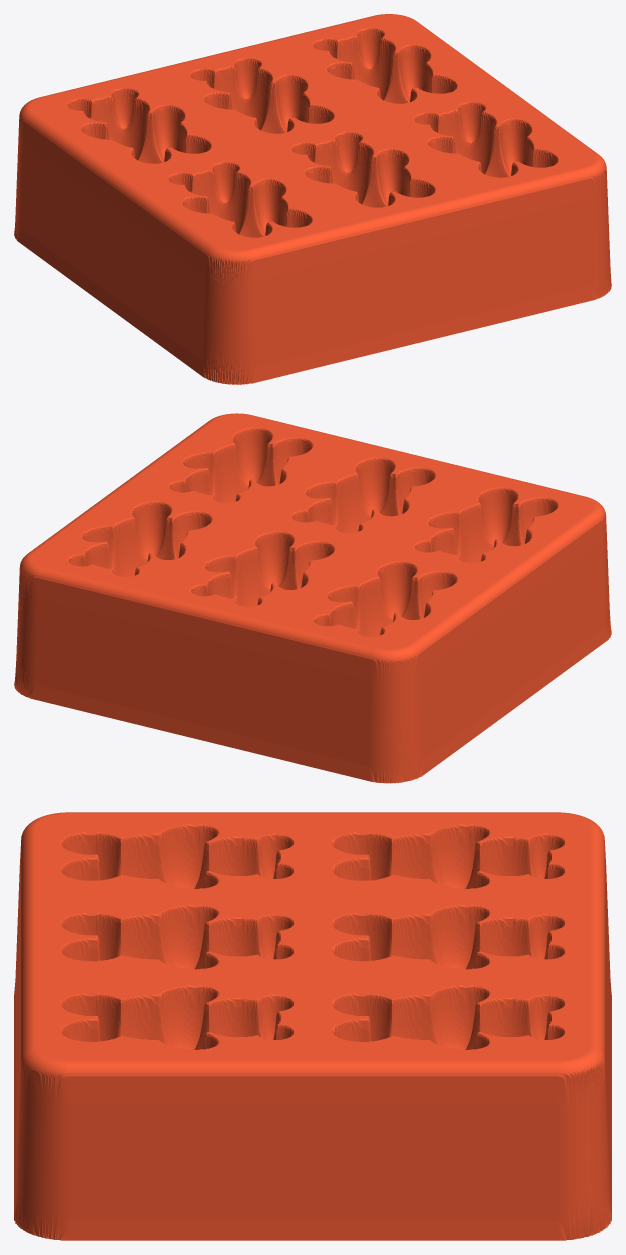
Rendered from mold.glb.
3 views of the same model, one above another, from view 1: azimuth 30°, elevation 25°; view 2: azimuth 150°, elevation 25°; view 3: azimuth 270°, elevation 25° (orthographic). The views are drawn at different scales.
Parts seen in each view (by area): view 1: geometry_0; view 2: geometry_0; view 3: geometry_0.
Part boxes in pixels (x1,y1,x2,y2): geometry_0: (14, 14, 611, 384); geometry_0: (14, 413, 611, 783); geometry_0: (14, 812, 611, 1240).
Bounding box in the file's own units: 0.1044 × 0.0314 × 0.0996.
